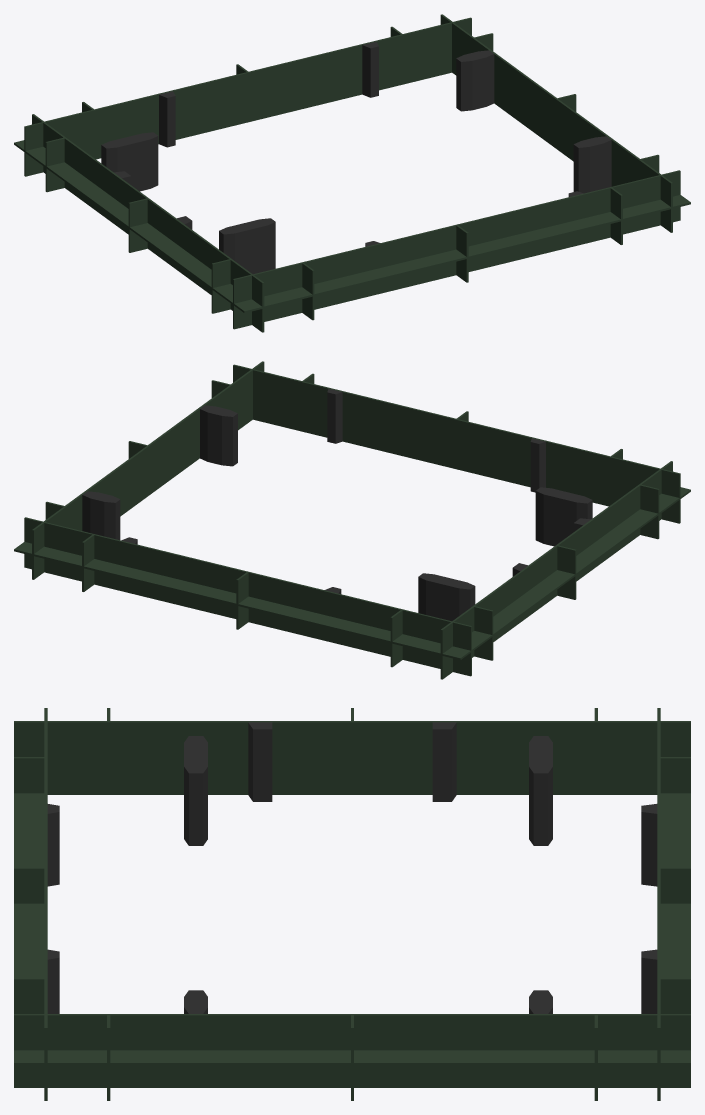
File: SW_ENV_Elevator_Shaft_Street_Interfloor_ConnectorRing_FF.fbx
3 views of the same model, one above another, from view 1: azimuth 30°, elevation 25°; view 2: azimuth 150°, elevation 25°; view 3: azimuth 270°, elevation 25° (orthographic). The views are drawn at different scales.
Visible parts, largest first — view 1: SW_ENV_Elevator_Shaft_Street_Interfloor_ConnectorRing_FF; view 2: SW_ENV_Elevator_Shaft_Street_Interfloor_ConnectorRing_FF; view 3: SW_ENV_Elevator_Shaft_Street_Interfloor_ConnectorRing_FF.
Part boxes in pixels (<box>): SW_ENV_Elevator_Shaft_Street_Interfloor_ConnectorRing_FF: <box>14,14,690,332</box>; SW_ENV_Elevator_Shaft_Street_Interfloor_ConnectorRing_FF: <box>14,361,690,679</box>; SW_ENV_Elevator_Shaft_Street_Interfloor_ConnectorRing_FF: <box>14,708,690,1100</box>.
Bounding box in the file's own units: 472 × 50 × 422.
